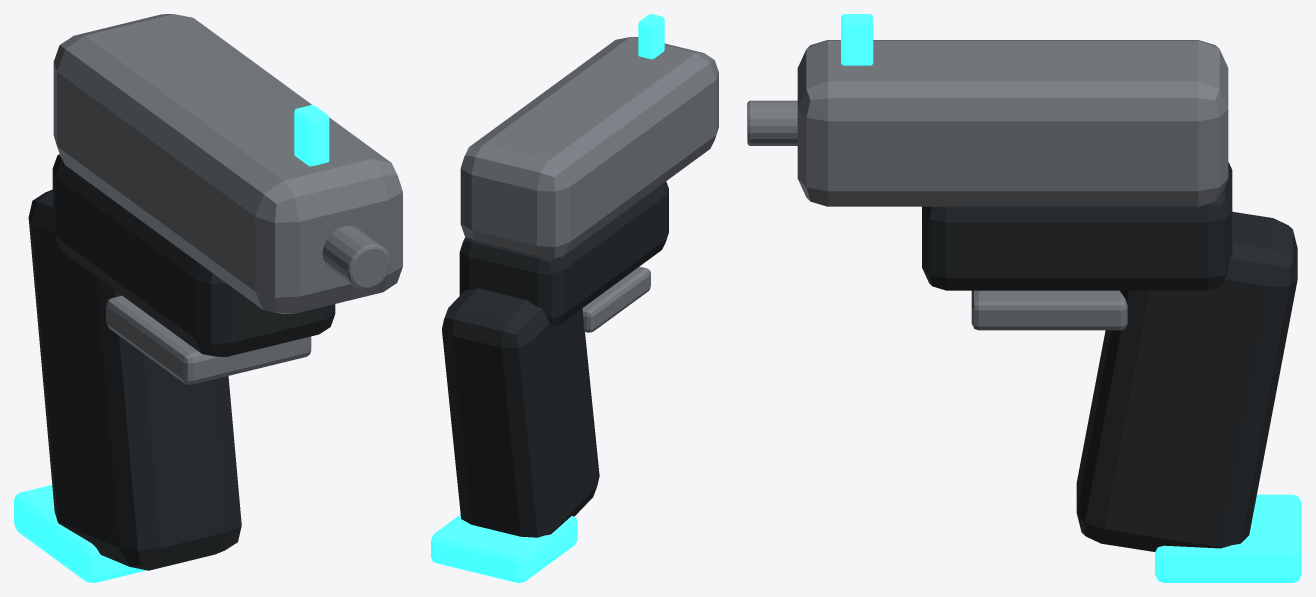
File: deagle.glb
3 views of the same model, side by side, from view 1: azimuth 30°, elevation 25°; view 2: azimuth 150°, elevation 25°; view 3: azimuth 270°, elevation 25° (orthographic). The views are drawn at different scales.
Visible parts, largest first — view 1: Slide, Grip, Frame, Trigger guard, Magazine base, Barrel.007, Front sight.005; view 2: Slide, Grip, Frame, Magazine base, Trigger guard, Front sight.005; view 3: Slide, Grip, Frame, Magazine base, Trigger guard, Barrel.007, Front sight.005.
Part boxes in pixels (left/top/right/bottom): Slide: left=53, top=14, right=402, bottom=313; Grip: left=28, top=189, right=241, bottom=570; Frame: left=52, top=154, right=335, bottom=356; Trigger guard: left=106, top=295, right=311, bottom=384; Magazine base: left=14, top=485, right=146, bottom=582; Barrel.007: left=322, top=225, right=390, bottom=289; Front sight.005: left=294, top=105, right=329, bottom=166; Slide: left=460, top=37, right=718, bottom=257; Grip: left=442, top=288, right=599, bottom=537; Frame: left=459, top=181, right=668, bottom=326; Magazine base: left=431, top=514, right=577, bottom=582; Trigger guard: left=582, top=266, right=650, bottom=332; Front sight.005: left=638, top=14, right=664, bottom=59; Slide: left=797, top=40, right=1228, bottom=206; Grip: left=1076, top=211, right=1297, bottom=551; Frame: left=922, top=162, right=1232, bottom=290; Magazine base: left=1155, top=494, right=1301, bottom=582; Trigger guard: left=971, top=290, right=1127, bottom=330; Barrel.007: left=747, top=100, right=797, bottom=145; Front sight.005: left=841, top=14, right=873, bottom=65.
Size of the model in its own units: 0.17 by 0.65 by 0.605.
